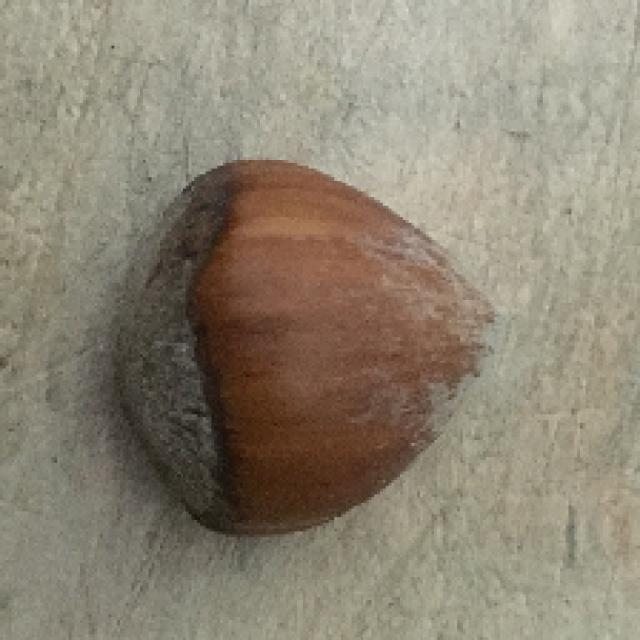damagedHazelnut: (101, 161, 504, 550)
